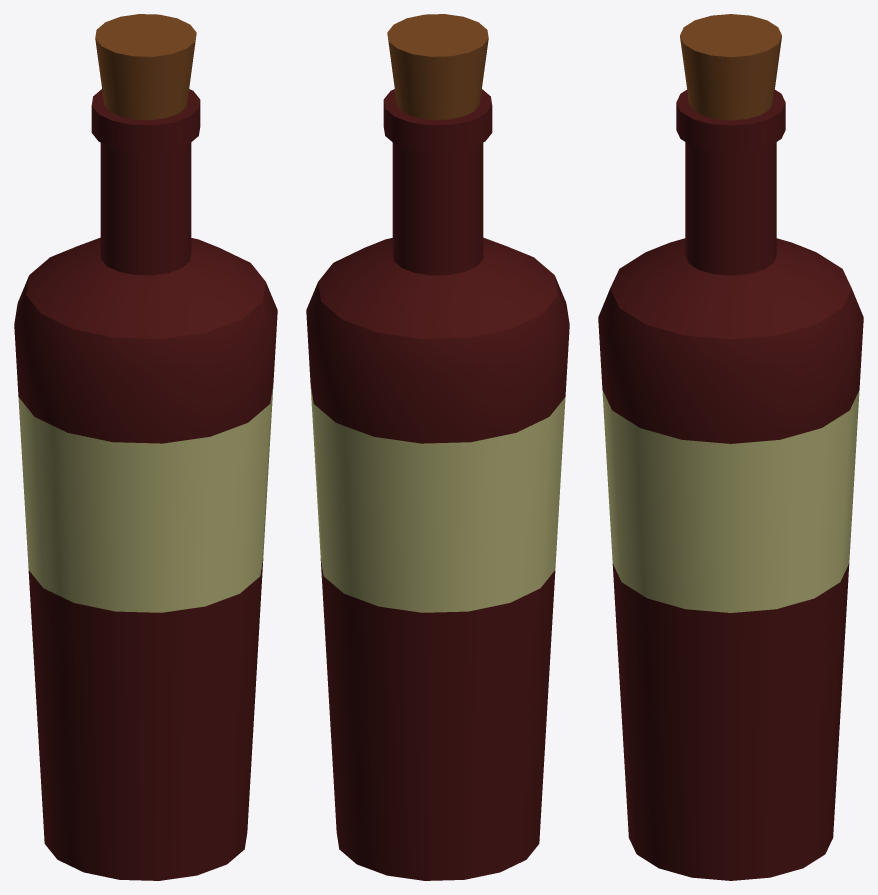
Rendered from wine.fbx.
3 renders of one model, left to right at view 1: azimuth 30°, elevation 25°; view 2: azimuth 150°, elevation 25°; view 3: azimuth 270°, elevation 25°, orthographic.
Visible parts, largest first — view 1: Wine; view 2: Wine; view 3: Wine.
Boxes of the visible parts, <box> form: Wine: <box>14,14,277,880</box>; Wine: <box>306,14,569,880</box>; Wine: <box>598,14,863,880</box>.
Size of the model in its own units: 14.38 by 14.38 by 47.92.
